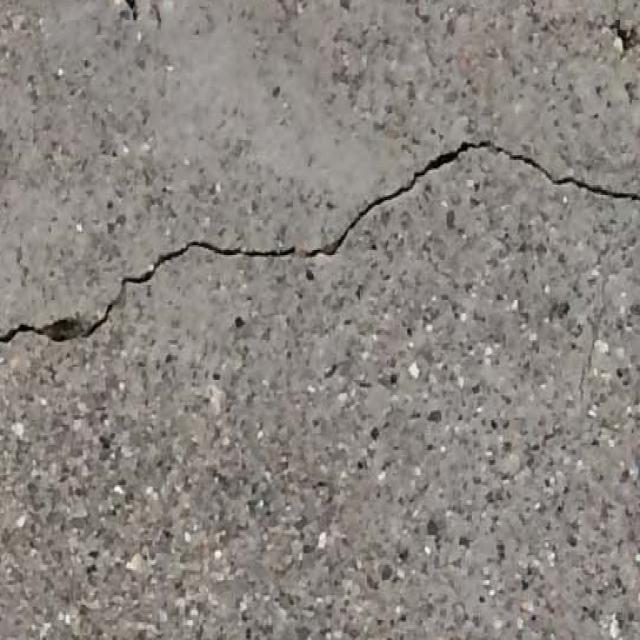crack: (1, 134, 639, 358)
